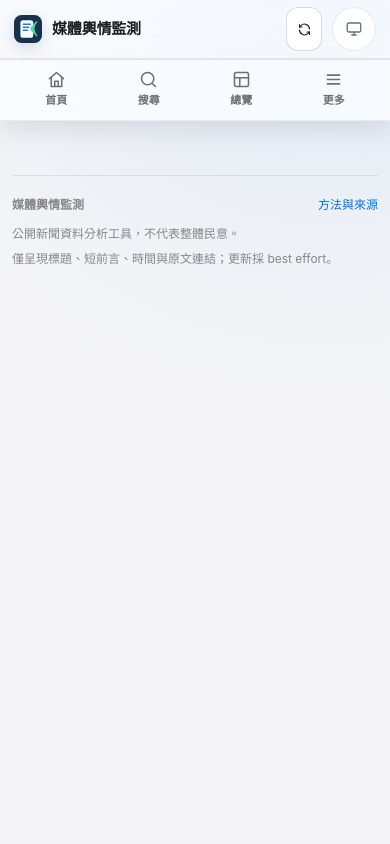
Layout › renders top navigation between the brand and utilities without a sidebar
Expected: the link with aria-label "媒體輿情監測 - 回首頁" is shown, left=14, top=15, right=141, bottom=43
Expected: the navigation bar named "行動版主導覽" is shown, left=0, top=59, right=389, bottom=121
Click the button "更多" at (334, 90), box left=288, top=63, right=380, bottom=116
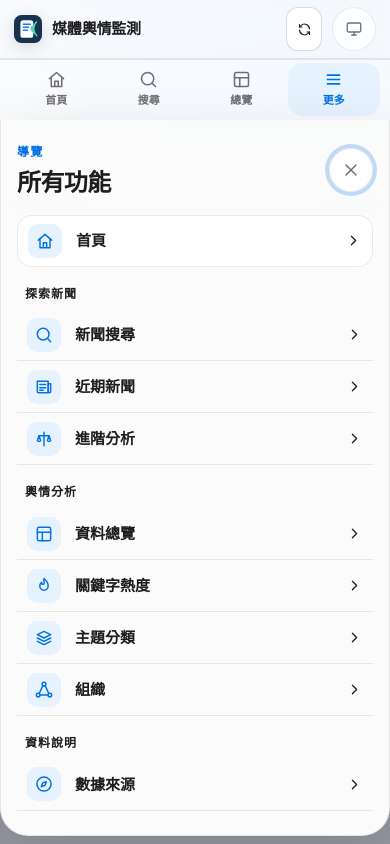
Expected: the icon with test id "brand-mark" is shown, left=14, top=15, right=42, bottom=43
Result: the dialog "所有功能" is shown
